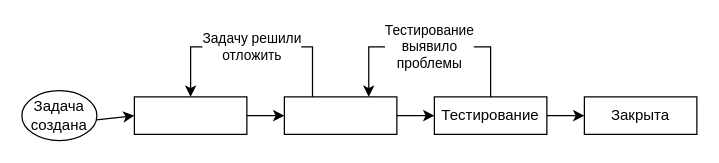
Some shapes in this 719 by 163 pixel diagram are drawn without their labels. The shapes that lost their labels are listed below. From the top down, each one's centre as x and y in pixels, then its label:
At point (190, 115): "Ожидание".
At point (340, 115): "В работе".
